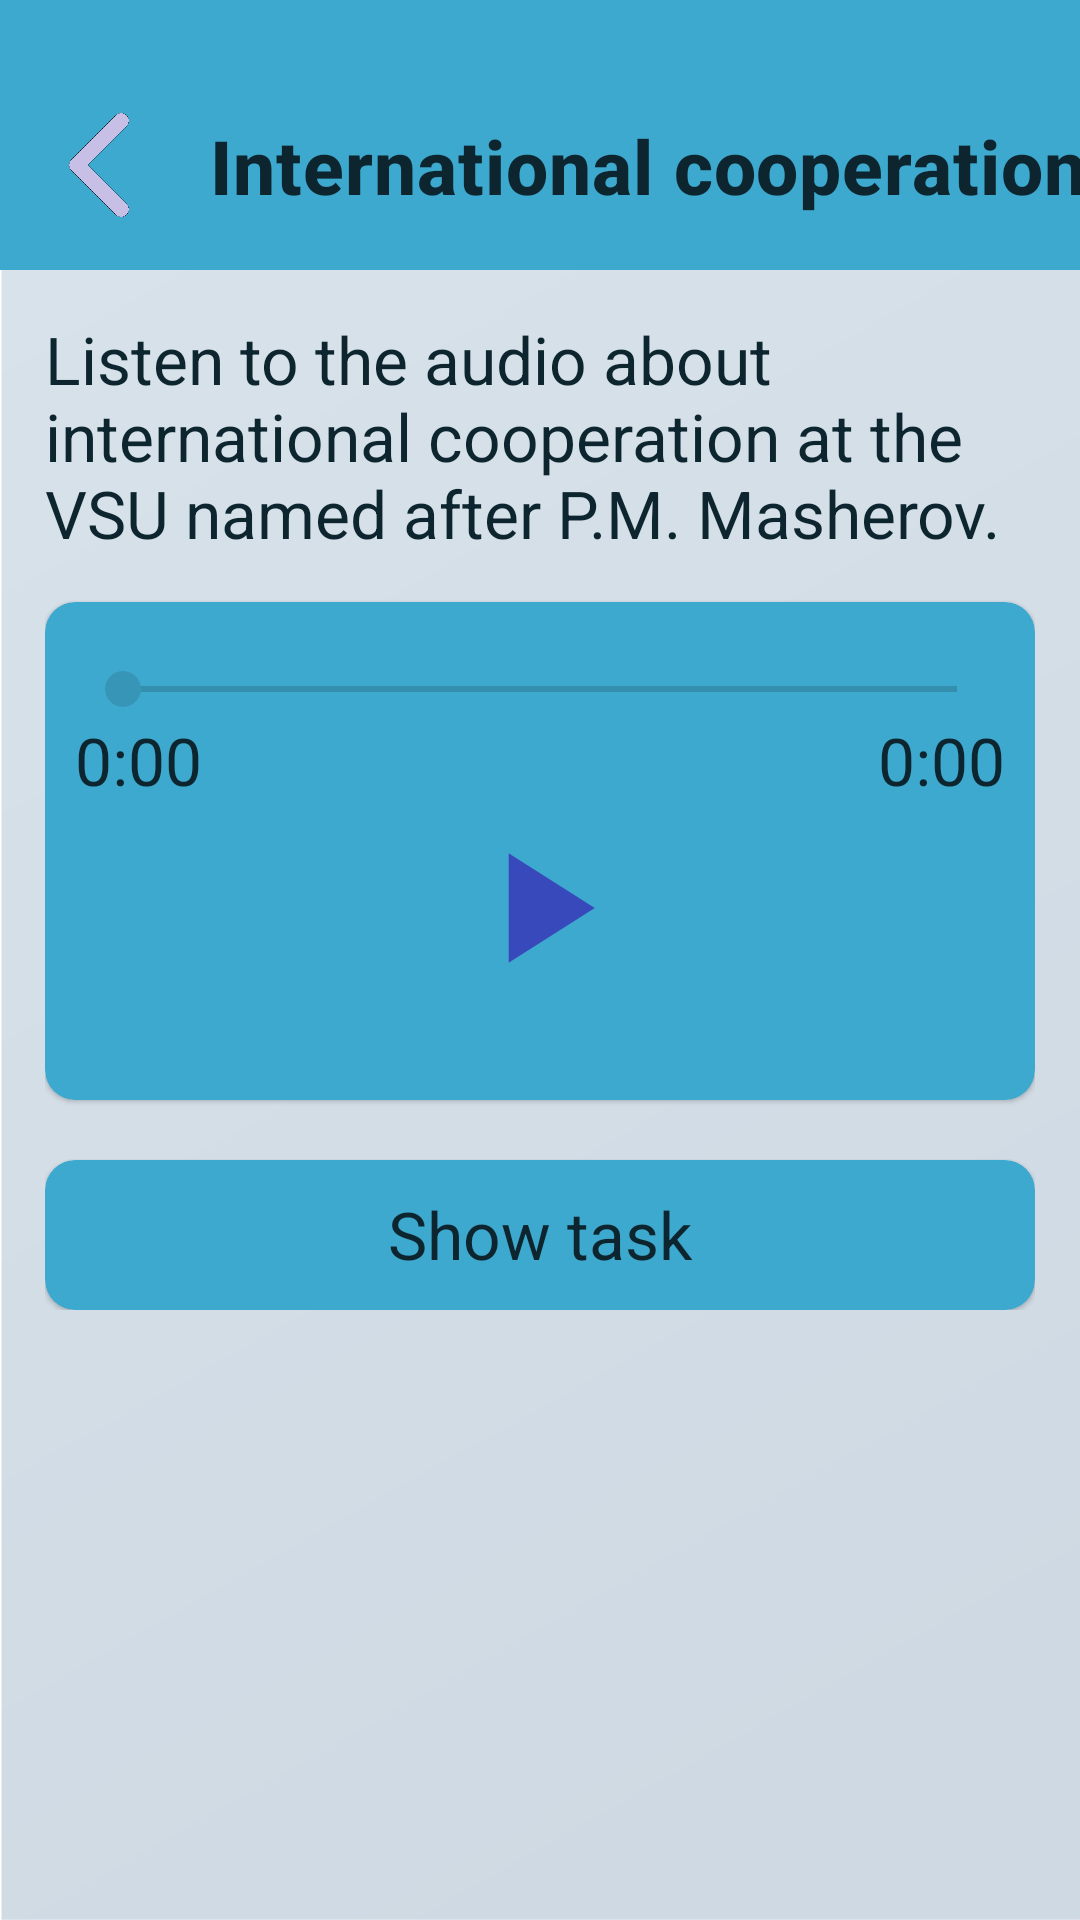

Point at icon controls on the screen. Image size 1080px x 1920px, points as [x,y].
back: [99,165]
Play/Pause: [551,908]
